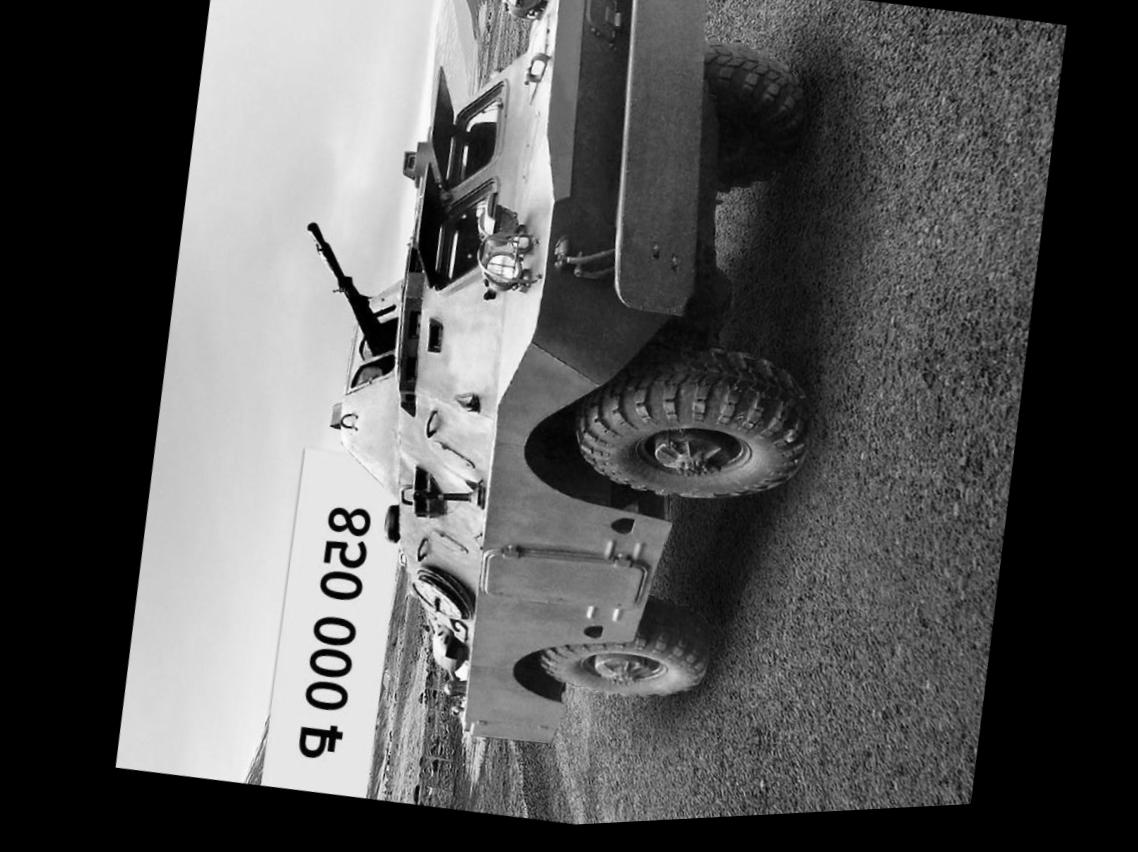tank: (186, 0, 930, 827)
